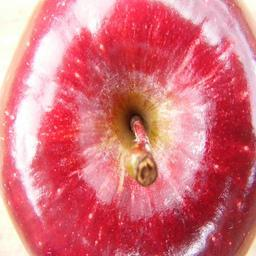apple: (0, 2, 255, 253)
